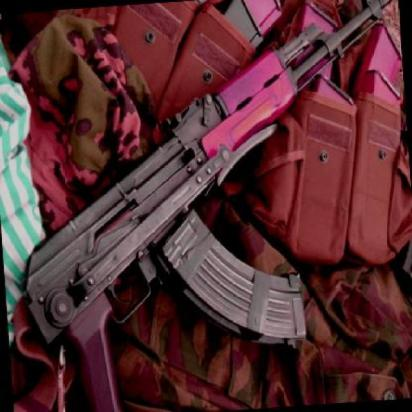Gun: (29, 11, 364, 362)
